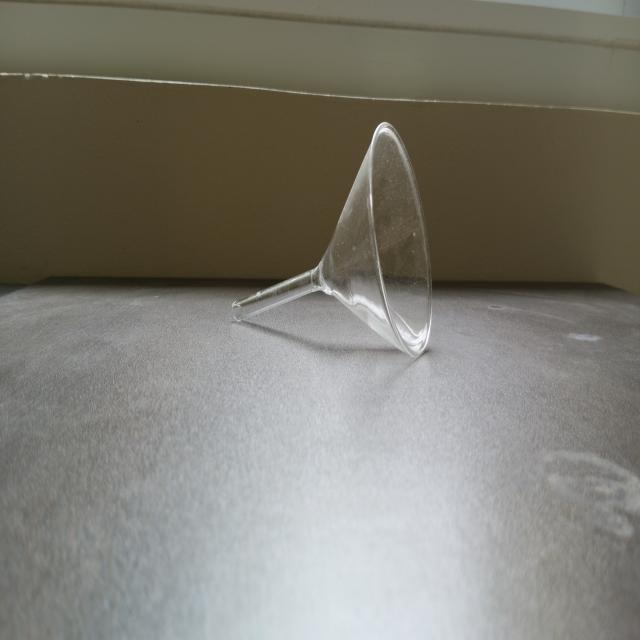funnel: (213, 124, 446, 362)
